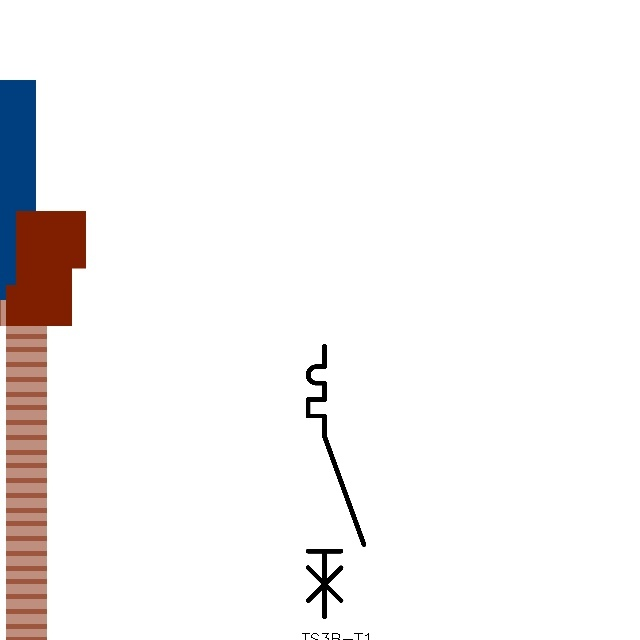interruptor_termomagnetico: (301, 339, 370, 624)
